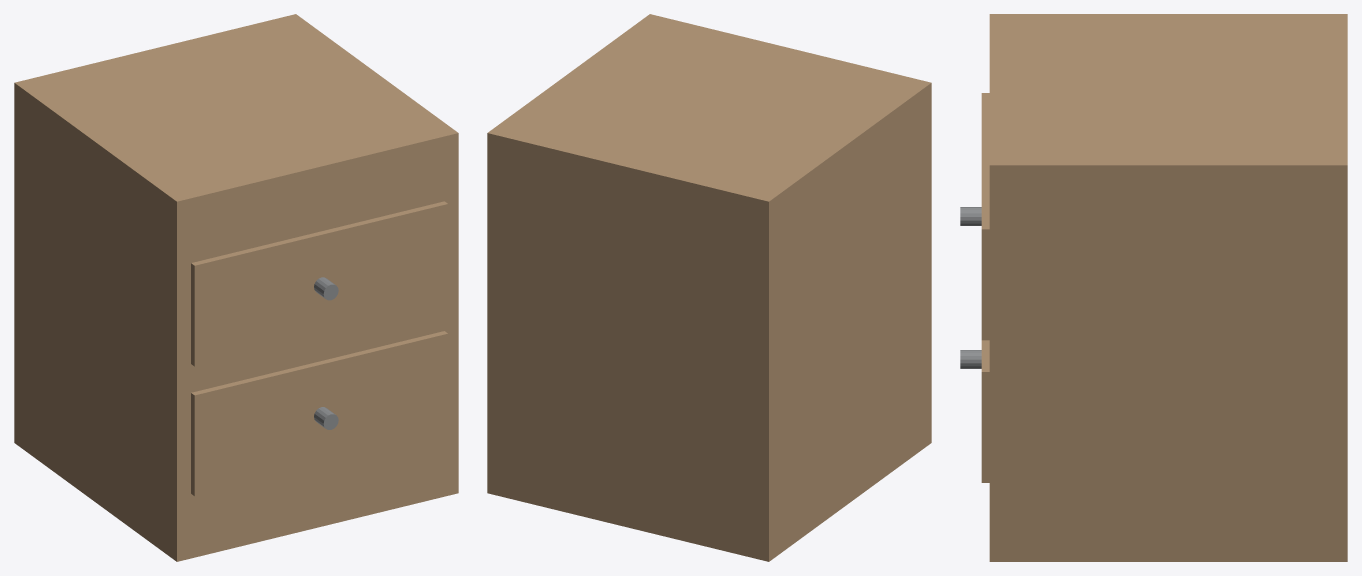
The model's file is nightstand.glb.
The picture shows the model from 3 angles, left to right: view 1: azimuth 30°, elevation 25°; view 2: azimuth 150°, elevation 25°; view 3: azimuth 270°, elevation 25°; orthographic projection. The views are drawn at different scales.
Visible parts, largest first — view 1: Nightstand; view 2: Nightstand; view 3: Nightstand.
Part boxes in pixels (x1,y1,x2,y2): Nightstand: (14,14,458,561); Nightstand: (487,14,931,561); Nightstand: (960,14,1347,561).
Bounding box in the file's own units: 0.45 × 0.55 × 0.487.
